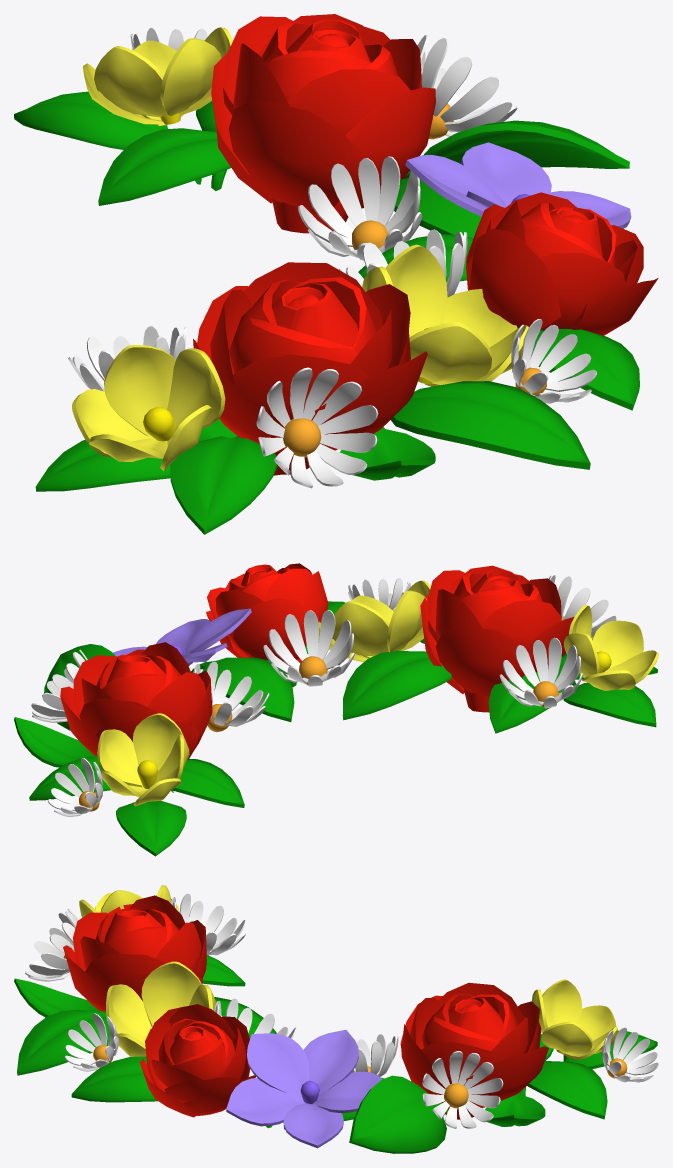
The model's file is Cake_ThemeFLowers_H.FBX.
The picture shows the model from 3 angles, top to bottom: view 1: azimuth 30°, elevation 25°; view 2: azimuth 150°, elevation 25°; view 3: azimuth 270°, elevation 25°; orthographic projection. The views are drawn at different scales.
Visible parts, largest first — view 1: Cake_ThemeFLowers_H; view 2: Cake_ThemeFLowers_H; view 3: Cake_ThemeFLowers_H.
Boxes of the visible parts, x1,y1,x2,y2 form: Cake_ThemeFLowers_H: (14,14,658,534); Cake_ThemeFLowers_H: (14,563,658,856); Cake_ThemeFLowers_H: (14,885,658,1153).
Size of the model in its own units: 89676 by 21663 by 104096.
